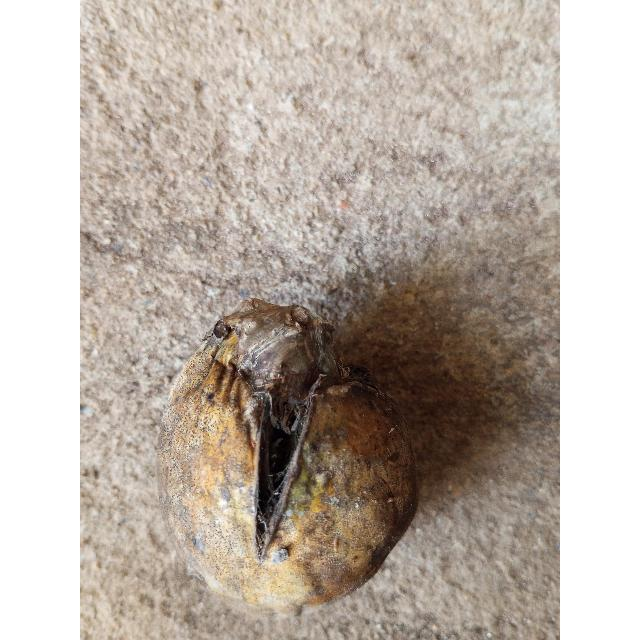damaged: (158, 299, 417, 615)
